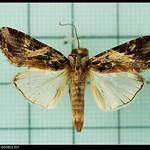Spodoptera litura: (1, 22, 150, 133)
